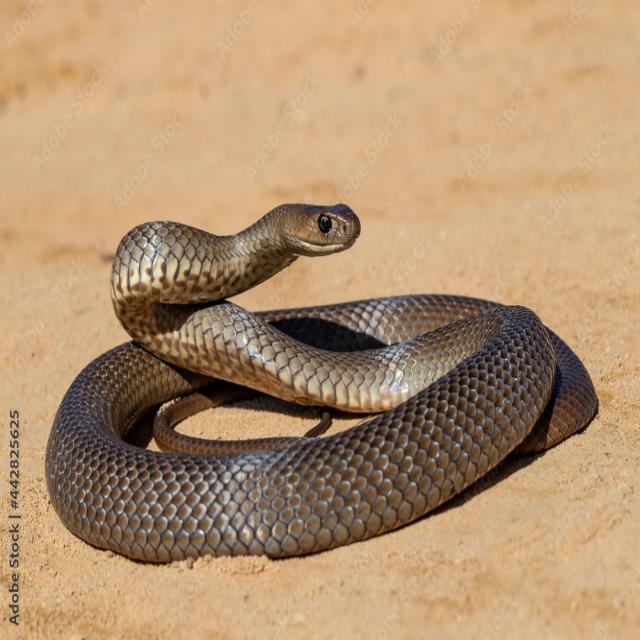Snake: (39, 125, 615, 578)
